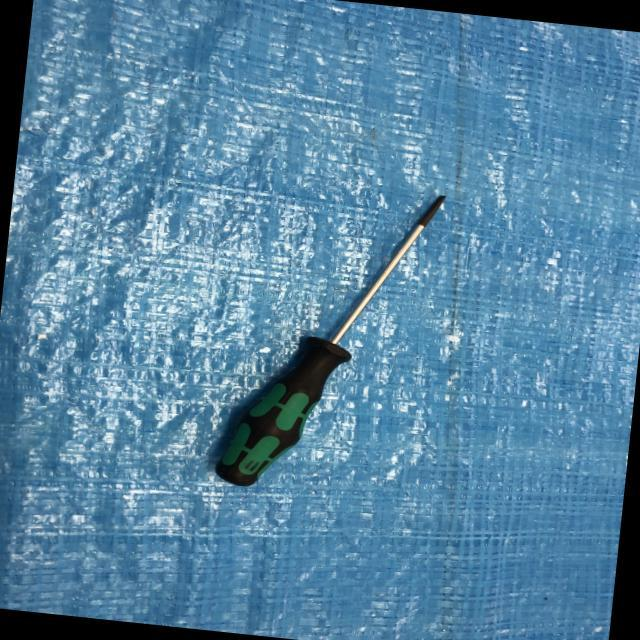screwdriver: (185, 160, 468, 529)
